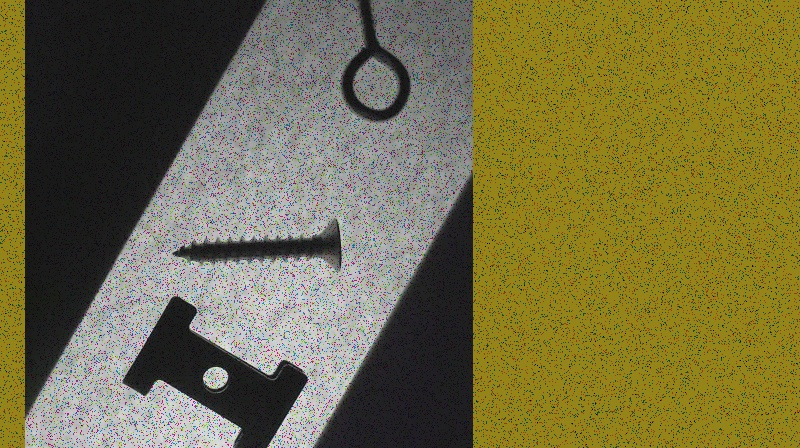O001: (339, 0, 411, 123)
O002: (124, 294, 308, 447)
S001: (171, 215, 345, 276)
